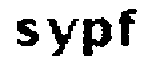f: (116, 6, 138, 49)
p: (80, 14, 112, 60)
s: (12, 16, 41, 48)
y: (45, 14, 78, 59)
